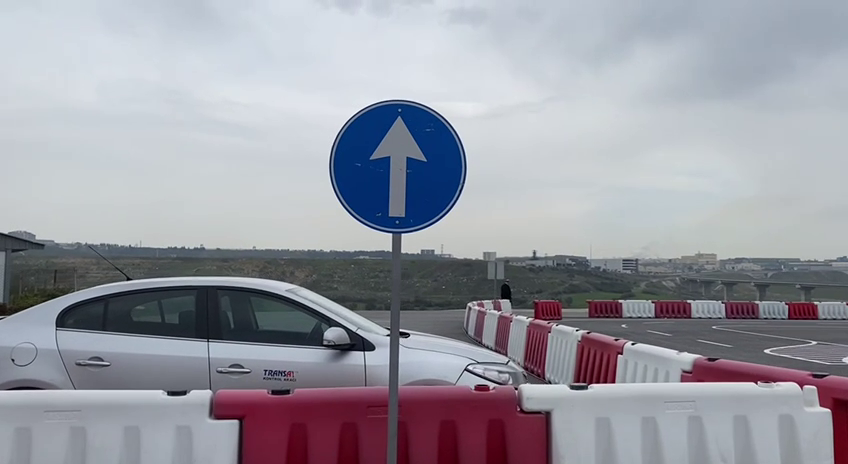forward: (326, 95, 468, 236)
